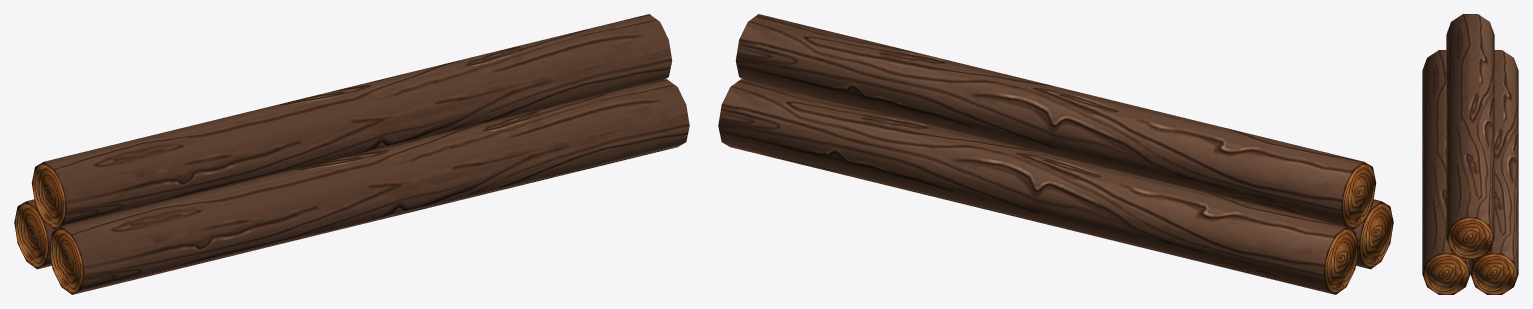
File: WoodLogPile.fbx
3 views of the same model, side by side, from view 1: azimuth 30°, elevation 25°; view 2: azimuth 150°, elevation 25°; view 3: azimuth 270°, elevation 25° (orthographic). The views are drawn at different scales.
Parts seen in each view (by area): view 1: Wood_LogPile; view 2: Wood_LogPile; view 3: Wood_LogPile.
Boxes of the visible parts, <box> form: Wood_LogPile: <box>14,14,689,294</box>; Wood_LogPile: <box>718,14,1393,294</box>; Wood_LogPile: <box>1422,14,1518,294</box>.
Bounding box in the file's own units: 4 × 0.7104 × 0.8.
